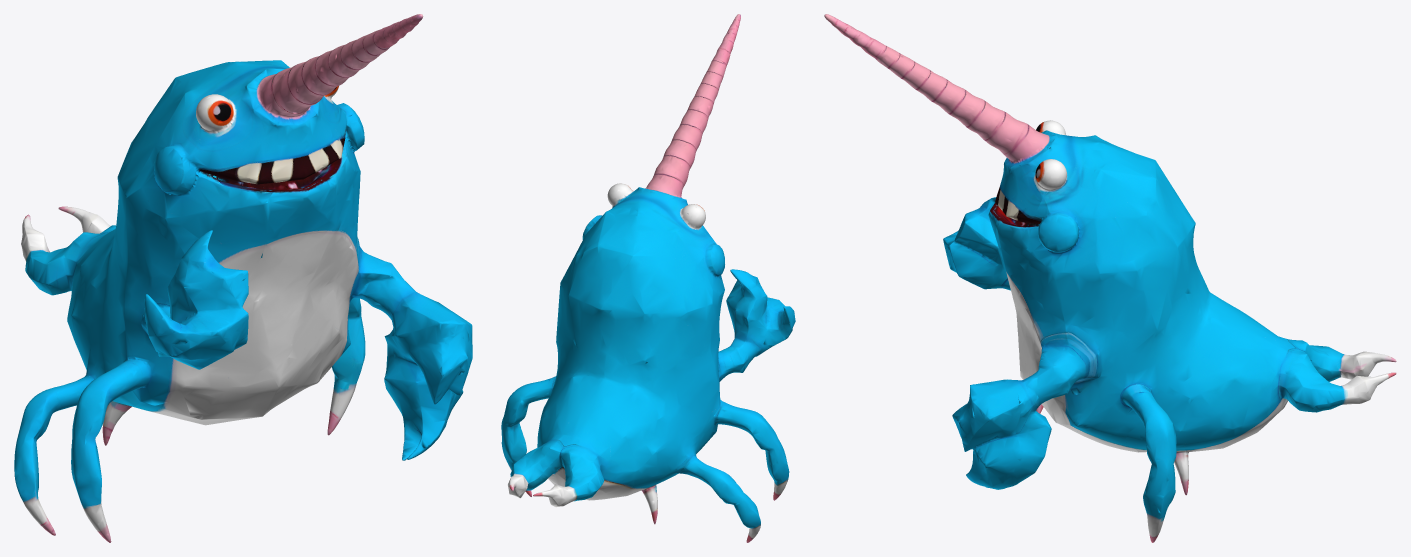
The model's file is narwhal-crab-14595.glb.
3 views of the same model, side by side, from view 1: azimuth 30°, elevation 25°; view 2: azimuth 150°, elevation 25°; view 3: azimuth 270°, elevation 25° (orthographic). The views are drawn at different scales.
Bounding box in the file's own units: 1.16 × 1.83 × 1.91.
1 material, 1 textured.
